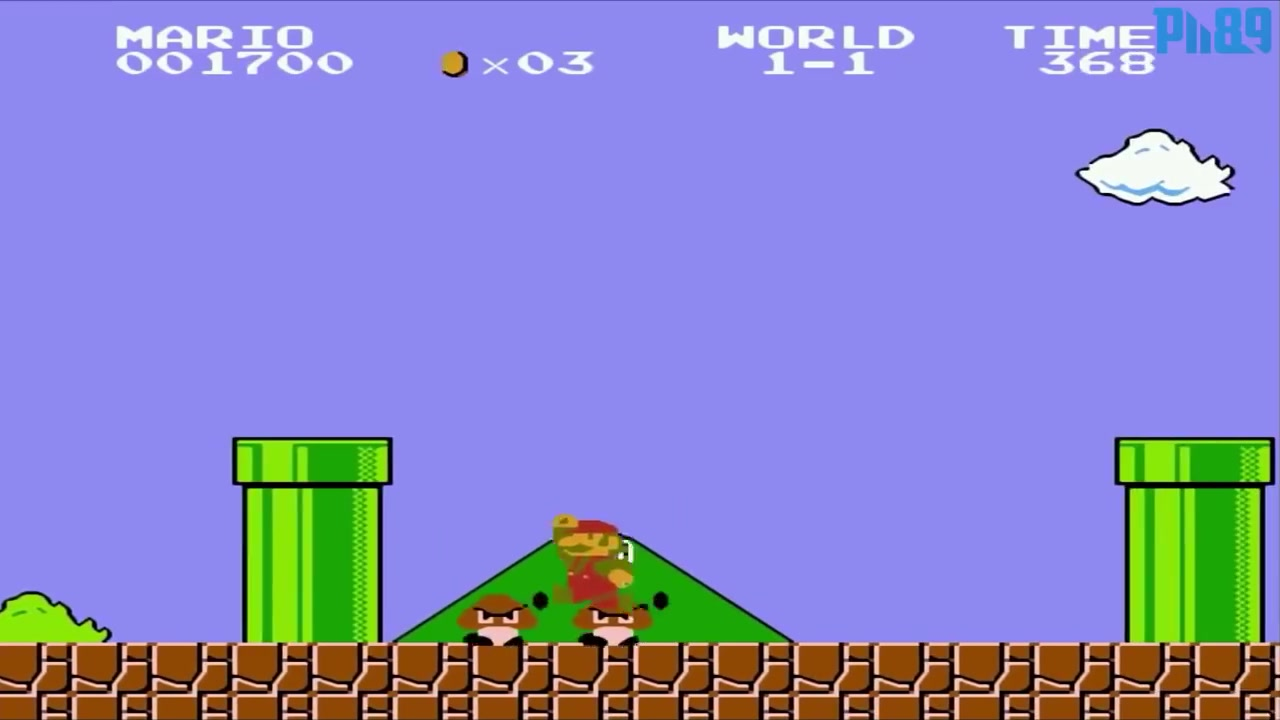mario: (548, 513, 632, 612)
